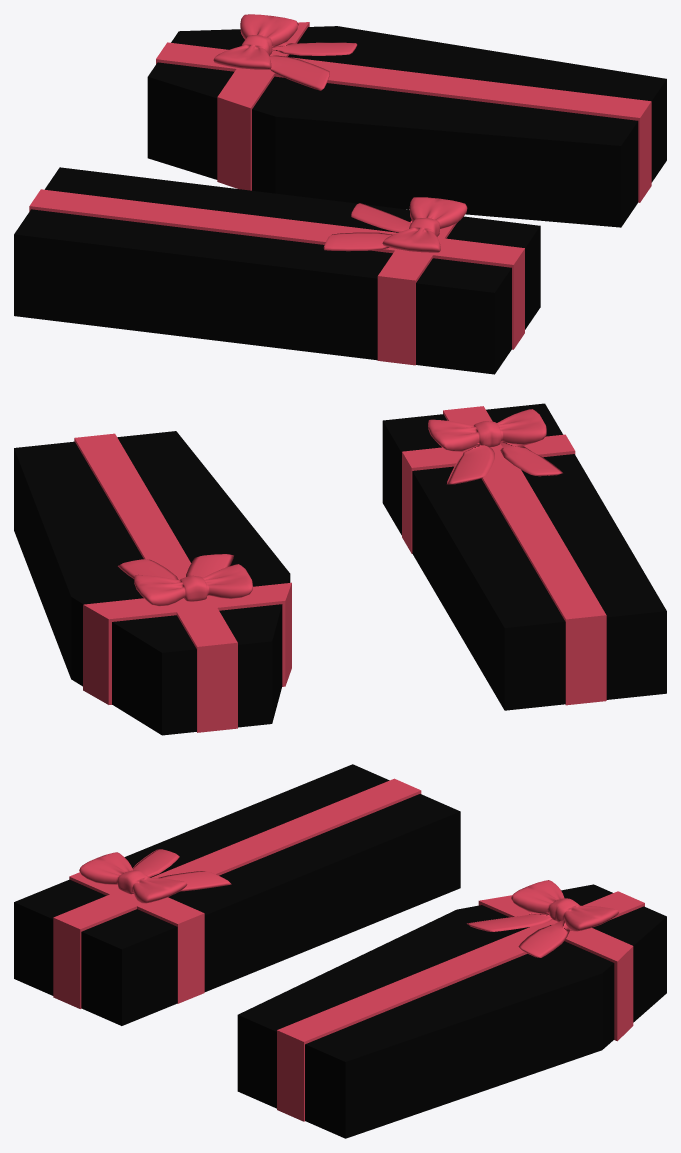
Rendered from coffin.fbx.
The picture shows the model from 3 angles, top to bottom: view 1: azimuth 30°, elevation 25°; view 2: azimuth 150°, elevation 25°; view 3: azimuth 270°, elevation 25°; orthographic projection. The views are drawn at different scales.
Parts seen in each view (by area): view 1: Cube.005, Cube.003; view 2: Cube.005, Cube.003; view 3: Cube.005, Cube.003.
Part boxes in pixels (x1,y1,x2,y2): Cube.005: (147,14,666,227); Cube.003: (14,167,540,374); Cube.005: (14,431,291,735); Cube.003: (382,403,666,710); Cube.005: (237,880,666,1138); Cube.003: (14,764,460,1025).
Bounding box in the file's own units: 819 × 133 × 759.
